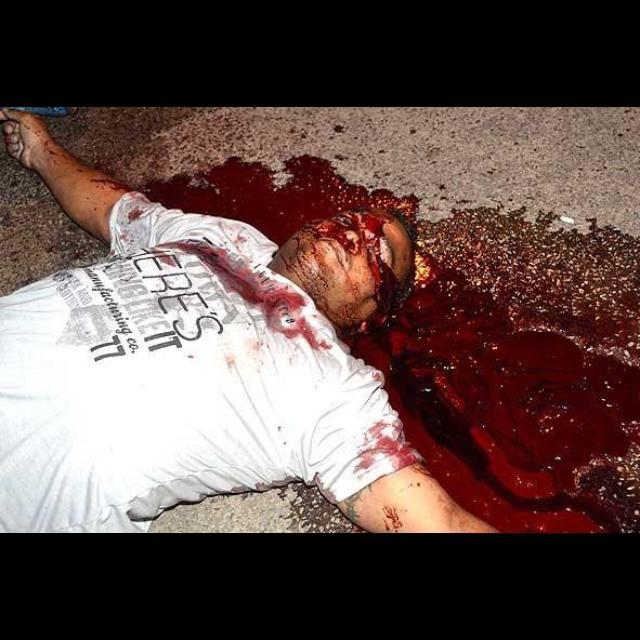blood: (146, 156, 640, 534), (335, 428, 467, 533), (90, 172, 132, 193)
